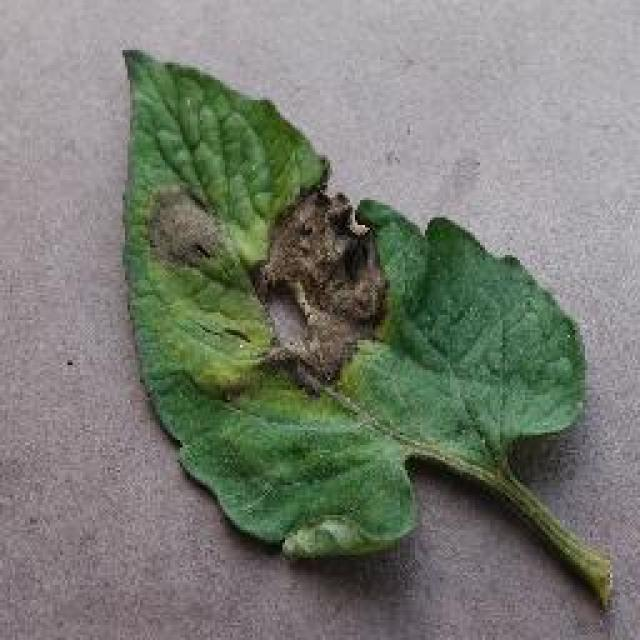Tomato___Late_blight: (122, 50, 608, 602)
